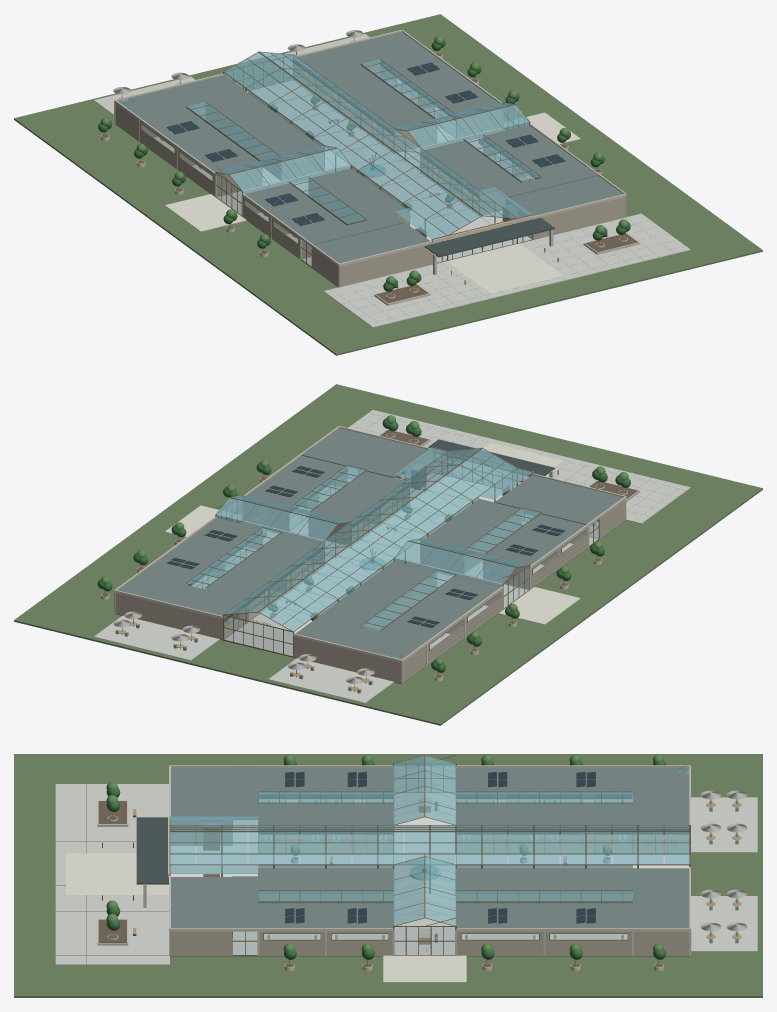
The model's file is luma-galleria.glb.
3 views of the same model, one above another, from view 1: azimuth 30°, elevation 25°; view 2: azimuth 150°, elevation 25°; view 3: azimuth 270°, elevation 25° (orthographic). The views are drawn at different scales.
Visible parts, largest first — view 1: Site_ground, Main_entrance_plaza, Continuous_public_terrazzo, Entry_approach_stone_runner, SOL_TABLE_roof, THE_GROVE_roof_around_hatch_1, Entrance_canopy_floating_bronze_plate, OBJECT_roof, COMMON_roof, Side_entrance_path, KIN_roof, THREAD_roof (+36 smaller); view 2: Site_ground, Continuous_public_terrazzo, Main_entrance_plaza, North_restaurant_terrace, North_restaurant_terrace_1, SOL_TABLE_roof, THE_GROVE_roof_around_hatch_1, THE_GROVE_north_partition, SOL_TABLE_north_partition, THREAD_roof, KIN_roof, OBJECT_roof (+34 smaller); view 3: Site_ground, Continuous_public_terrazzo, Main_entrance_plaza, SOL_TABLE_roof, North_restaurant_terrace_1, North_restaurant_terrace, Entry_approach_stone_runner, THE_GROVE_roof_around_hatch_1, Side_entrance_path_1, COMMON_roof, FIELD_roof, Entrance_canopy_floating_bronze_plate (+80 smaller).
Boxes of the visible parts, x1,y1,x2,y2 form: Site_ground: [14, 14, 762, 355]; Main_entrance_plaza: [323, 213, 690, 327]; Continuous_public_terrazzo: [217, 80, 531, 265]; Entry_approach_stone_runner: [446, 243, 563, 293]; SOL_TABLE_roof: [293, 32, 425, 75]; THE_GROVE_roof_around_hatch_1: [128, 75, 247, 116]; Entrance_canopy_floating_bronze_plate: [424, 217, 554, 257]; OBJECT_roof: [206, 93, 285, 131]; COMMON_roof: [318, 65, 398, 102]; Side_entrance_path: [165, 194, 246, 231]; KIN_roof: [244, 120, 323, 159]; THREAD_roof: [380, 49, 463, 88]; Site_ground: [14, 384, 762, 725]; Continuous_public_terrazzo: [225, 473, 597, 655]; Main_entrance_plaza: [348, 410, 690, 523]; North_restaurant_terrace: [268, 658, 393, 703]; North_restaurant_terrace_1: [94, 615, 219, 660]; SOL_TABLE_roof: [118, 574, 248, 618]; THE_GROVE_roof_around_hatch_1: [295, 617, 413, 656]; THE_GROVE_north_partition: [293, 636, 400, 683]; SOL_TABLE_north_partition: [115, 593, 222, 639]; THREAD_roof: [140, 545, 224, 584]; KIN_roof: [356, 561, 436, 599]; OBJECT_roof: [318, 589, 398, 627]; Site_ground: [14, 754, 762, 997]; Continuous_public_terrazzo: [170, 793, 689, 954]; Main_entrance_plaza: [55, 784, 169, 964]; SOL_TABLE_roof: [632, 868, 689, 927]; North_restaurant_terrace_1: [691, 896, 757, 951]; North_restaurant_terrace: [691, 797, 757, 852]; Entry_approach_stone_runner: [66, 853, 168, 894]; THE_GROVE_roof_around_hatch_1: [633, 774, 689, 829]; Side_entrance_path_1: [383, 955, 466, 982]; COMMON_roof: [544, 868, 633, 893]; FIELD_roof: [456, 868, 544, 893]; Entrance_canopy_floating_bronze_plate: [136, 817, 168, 884].
Size of the model in its own units: 110 by 9.69 by 144.
